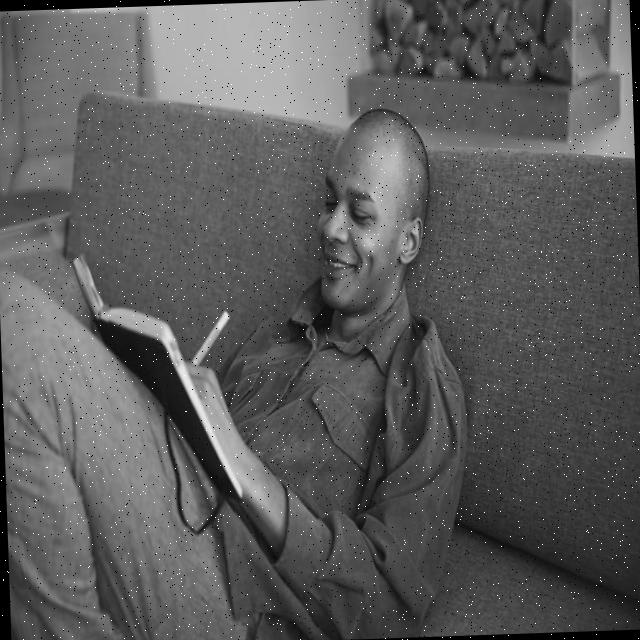Happiness: (306, 132, 404, 314)
